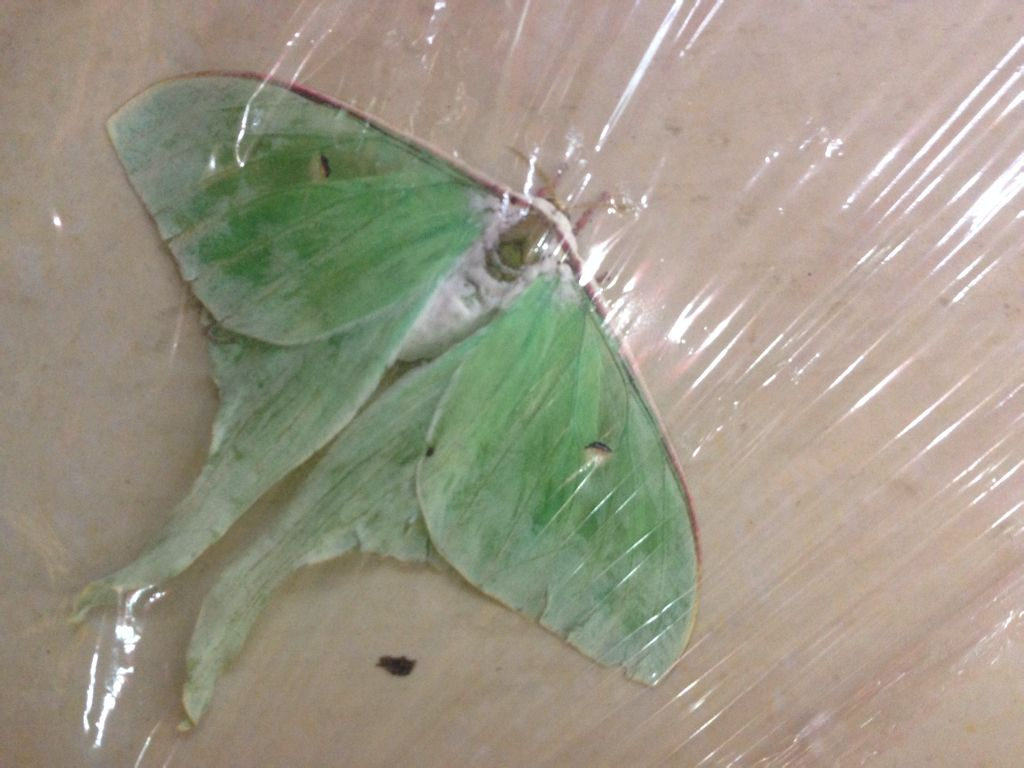feie: (85, 65, 707, 688)
